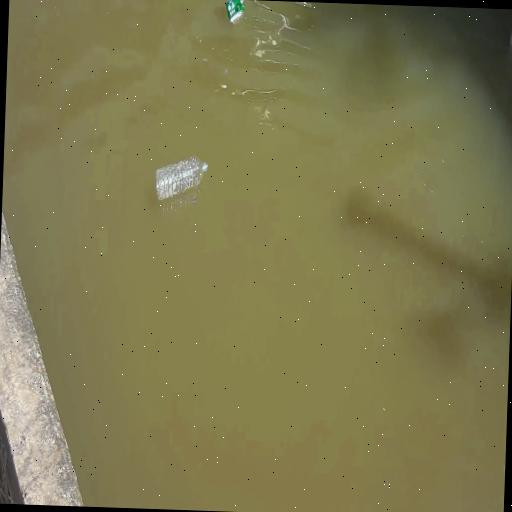plastic: (152, 154, 209, 204), (225, 0, 248, 30)
